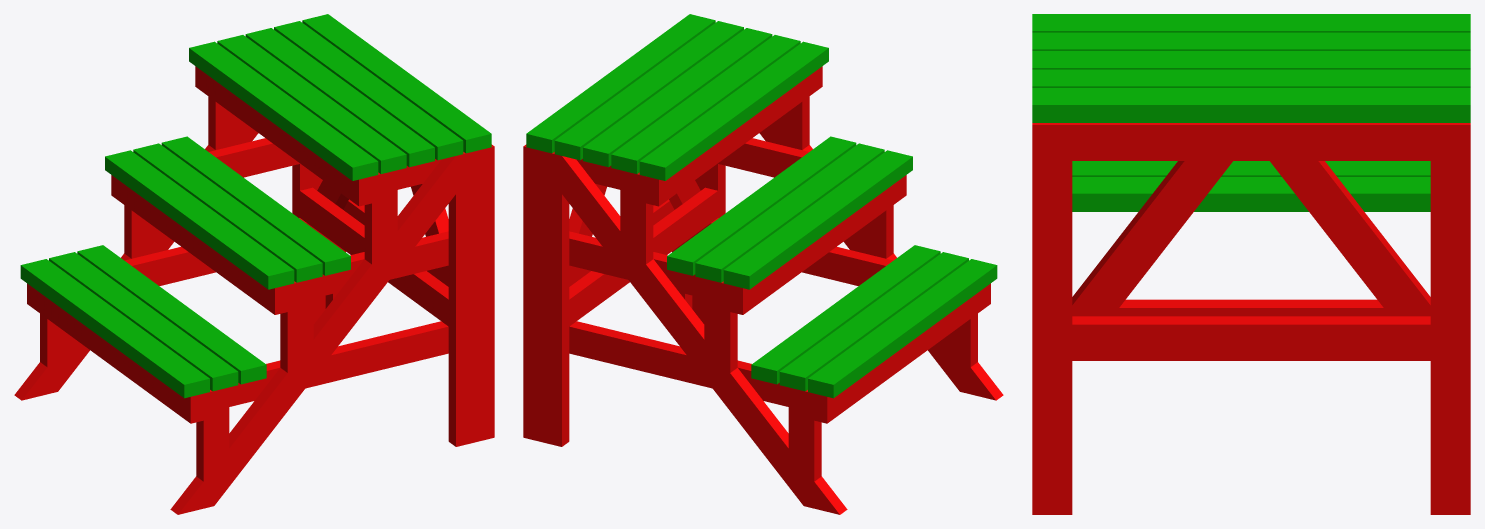
The model's file is result.glb.
3 views of the same model, side by side, from view 1: azimuth 30°, elevation 25°; view 2: azimuth 150°, elevation 25°; view 3: azimuth 270°, elevation 25° (orthographic). The views are drawn at different scales.
Parts seen in each view (by area): view 1: af3cbbf6-63a2-4b9e-8d86-e5a00734a9f2__undefined, a6bb42ab-f694-411e-9b82-01aeac1ea7c2__undefined, e80fa6ee-5254-4546-977a-27cf0d3a0f69__undefined, 791bbc44-a035-441b-bbf0-008d1bf29973__undefined, e9c9fa3f-f984-4f7e-8dd7-59b120578849__undefined, 6eb814bd-8150-4648-9628-fac8766f9328__undefined, 74446ab8-315a-4845-8e51-cd87832edf2e__undefined, 09578000-35b8-482a-9910-74b36694acab__undefined, 2567966d-3b34-4a10-a93e-e1f234ab229d__undefined, 8ca1d80a-f84c-42a0-9d30-33264e279877__undefined, 4f29eaa9-3ddf-4009-9c4d-2f0e3c309df1__undefined, 7875ed2a-e35b-4f4a-a309-2d10d1c42fc7__undefined (+20 smaller); view 2: 9cd09d35-ce76-4c9b-b259-7f0db2a6e5d2__undefined, b92e7679-9e4b-44cf-8dc6-2f66dbbdca36__undefined, e80fa6ee-5254-4546-977a-27cf0d3a0f69__undefined, 791bbc44-a035-441b-bbf0-008d1bf29973__undefined, e9c9fa3f-f984-4f7e-8dd7-59b120578849__undefined, cd864492-f9c8-43f9-ba44-1dfc3ea54d65__undefined, 74446ab8-315a-4845-8e51-cd87832edf2e__undefined, 09578000-35b8-482a-9910-74b36694acab__undefined, 2567966d-3b34-4a10-a93e-e1f234ab229d__undefined, 8ca1d80a-f84c-42a0-9d30-33264e279877__undefined, 4f29eaa9-3ddf-4009-9c4d-2f0e3c309df1__undefined, 7875ed2a-e35b-4f4a-a309-2d10d1c42fc7__undefined (+21 smaller); view 3: 08e0a68d-cd49-453c-88a9-87559440940d__undefined, cbc793e8-5f61-4e6c-be63-8d2fa8099c70__undefined, 4f29eaa9-3ddf-4009-9c4d-2f0e3c309df1__undefined, cbf4aabb-7f87-4fa2-884a-1aa4c4f21722__undefined, 567c91c7-a977-4263-86f3-76ad125003d7__undefined, 74446ab8-315a-4845-8e51-cd87832edf2e__undefined, cf14173c-a43c-4799-a0a1-a64dfe3ebc5d__undefined (×2), f3a01a9c-ccc8-4ded-a884-9658e41ba0c0__undefined, e9c9fa3f-f984-4f7e-8dd7-59b120578849__undefined, 2567966d-3b34-4a10-a93e-e1f234ab229d__undefined, 8ca1d80a-f84c-42a0-9d30-33264e279877__undefined, 90afc436-aea8-4d4e-889e-6fd03ef4c74c__undefined (+2 smaller).
Part boxes in pixels (x1,y1,x2,y2): af3cbbf6-63a2-4b9e-8d86-e5a00734a9f2__undefined: (170,156,455,514); a6bb42ab-f694-411e-9b82-01aeac1ea7c2__undefined: (448,149,481,446); e80fa6ee-5254-4546-977a-27cf0d3a0f69__undefined: (20,259,209,398); 791bbc44-a035-441b-bbf0-008d1bf29973__undefined: (105,150,294,289); e9c9fa3f-f984-4f7e-8dd7-59b120578849__undefined: (189,41,378,180); 6eb814bd-8150-4648-9628-fac8766f9328__undefined: (229,321,448,406); 74446ab8-315a-4845-8e51-cd87832edf2e__undefined: (77,245,266,384); 09578000-35b8-482a-9910-74b36694acab__undefined: (133,143,322,282); 2567966d-3b34-4a10-a93e-e1f234ab229d__undefined: (217,35,406,173); 8ca1d80a-f84c-42a0-9d30-33264e279877__undefined: (245,28,434,167); 4f29eaa9-3ddf-4009-9c4d-2f0e3c309df1__undefined: (302,14,491,153); 7875ed2a-e35b-4f4a-a309-2d10d1c42fc7__undefined: (161,136,350,275); 9cd09d35-ce76-4c9b-b259-7f0db2a6e5d2__undefined: (562,156,847,514); b92e7679-9e4b-44cf-8dc6-2f66dbbdca36__undefined: (536,149,569,446); e80fa6ee-5254-4546-977a-27cf0d3a0f69__undefined: (808,259,997,398); 791bbc44-a035-441b-bbf0-008d1bf29973__undefined: (723,150,912,289); e9c9fa3f-f984-4f7e-8dd7-59b120578849__undefined: (639,41,828,180); cd864492-f9c8-43f9-ba44-1dfc3ea54d65__undefined: (569,321,788,406); 74446ab8-315a-4845-8e51-cd87832edf2e__undefined: (751,245,940,384); 09578000-35b8-482a-9910-74b36694acab__undefined: (695,143,884,282); 2567966d-3b34-4a10-a93e-e1f234ab229d__undefined: (611,35,800,173); 8ca1d80a-f84c-42a0-9d30-33264e279877__undefined: (583,28,772,167); 4f29eaa9-3ddf-4009-9c4d-2f0e3c309df1__undefined: (526,14,715,153); 7875ed2a-e35b-4f4a-a309-2d10d1c42fc7__undefined: (667,136,856,275); 08e0a68d-cd49-453c-88a9-87559440940d__undefined: (1032,123,1470,160); cbc793e8-5f61-4e6c-be63-8d2fa8099c70__undefined: (1072,316,1430,360); 4f29eaa9-3ddf-4009-9c4d-2f0e3c309df1__undefined: (1032,88,1470,122); cbf4aabb-7f87-4fa2-884a-1aa4c4f21722__undefined: (1032,161,1072,514); 567c91c7-a977-4263-86f3-76ad125003d7__undefined: (1430,161,1470,514); 74446ab8-315a-4845-8e51-cd87832edf2e__undefined: (1072,177,1430,211); cf14173c-a43c-4799-a0a1-a64dfe3ebc5d__undefined (×2): (1072,161,1232,316); f3a01a9c-ccc8-4ded-a884-9658e41ba0c0__undefined: (1270,161,1430,316); e9c9fa3f-f984-4f7e-8dd7-59b120578849__undefined: (1032,14,1470,32); 2567966d-3b34-4a10-a93e-e1f234ab229d__undefined: (1032,32,1470,50); 8ca1d80a-f84c-42a0-9d30-33264e279877__undefined: (1032,51,1470,69); 90afc436-aea8-4d4e-889e-6fd03ef4c74c__undefined: (1032,69,1470,87).
Size of the model in its own units: 615 by 565 by 550.
